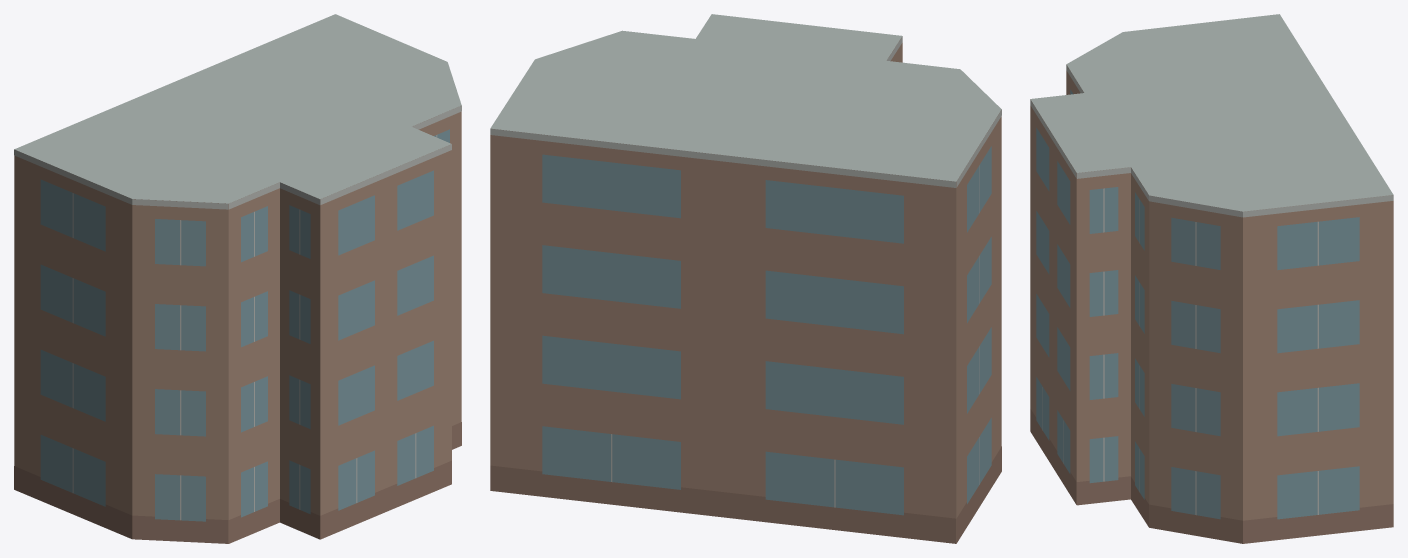
File: survey-upis-32504629.glb
3 renders of one model, left to right at view 1: azimuth 30°, elevation 25°; view 2: azimuth 150°, elevation 25°; view 3: azimuth 270°, elevation 25°, orthographic. The views are drawn at different scales.
Parts seen in each view (by area): view 1: survey-upis-32504629.tmp; view 2: survey-upis-32504629.tmp; view 3: survey-upis-32504629.tmp.
Boxes of the visible parts, x1=… form: survey-upis-32504629.tmp: x1=14, y1=14, x2=461, y2=543; survey-upis-32504629.tmp: x1=490, y1=14, x2=1001, y2=543; survey-upis-32504629.tmp: x1=1030, y1=14, x2=1393, y2=543.
Size of the model in its own units: 17.61 by 13.8 by 13.69.
